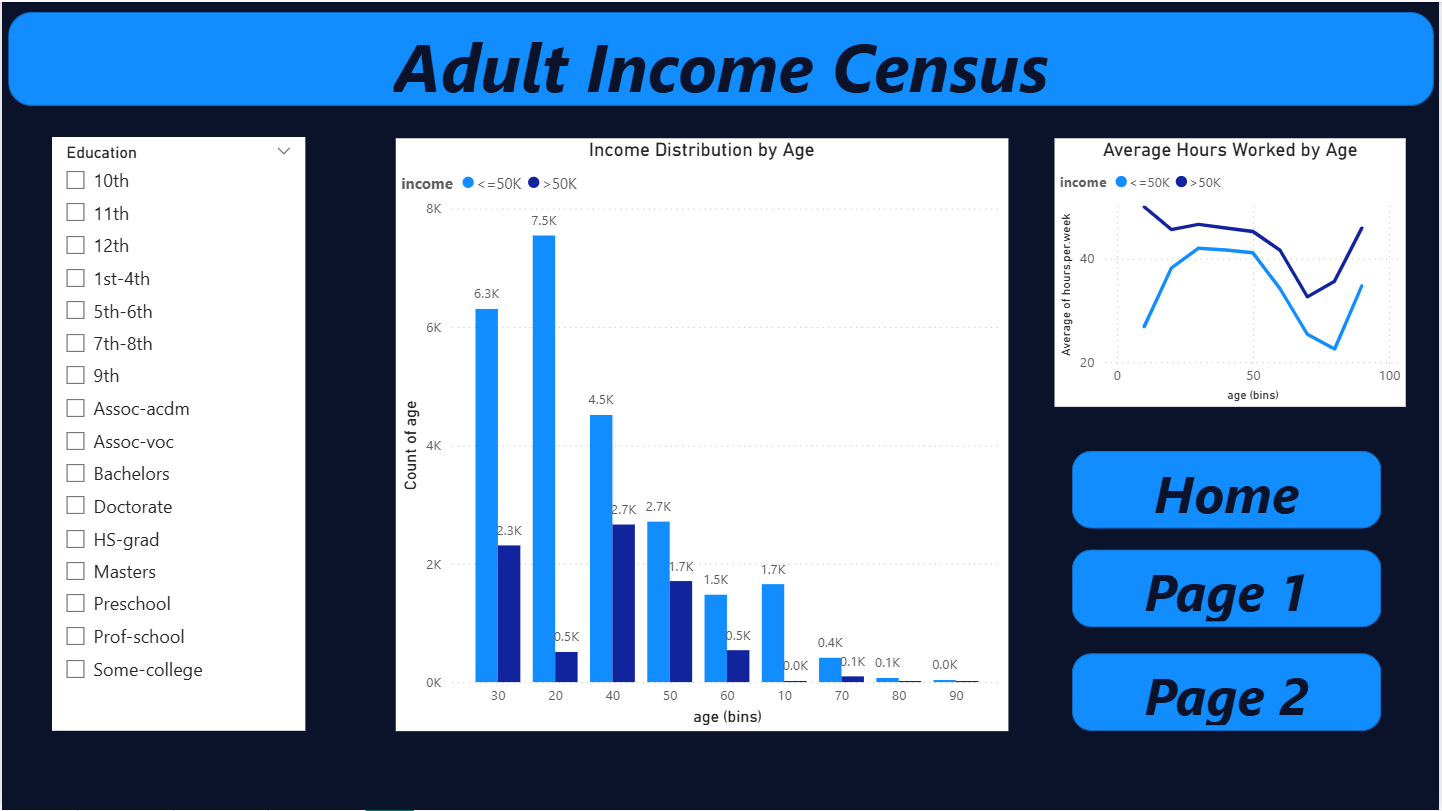

The dashboard page shown, as its layout file describes it:
{"tool":"powerbi","page":{"name":"Page 3","canvas":[1280,720],"ordinal":3},"visuals":[{"type":"clusteredColumnChart","title":"Income Distribution by Age","fields":{"Category":["Dataset for Excel.age (bins)"],"Series":["Dataset for Excel.income"],"Y":["CountNonNull(Dataset for Excel.age)"]},"box":[350.6,121.2,545.4,528.1],"z":0},{"type":"shape","box":[953.2,399.6,275.6,69.3],"z":1000},{"type":"shape","box":[953.2,580,275.6,69.3],"z":2000},{"type":"shape","box":[953.2,487.7,275.6,69.3],"z":3000},{"type":"shape","box":[5.8,8.7,1269.6,83.7],"z":4000},{"type":"slicer","fields":{"Values":["Dataset for Excel.education"]},"box":[44.6,120.6,225.6,528.4],"z":5000},{"type":"lineChart","title":"Average Hours Worked by Age","fields":{"Category":["Dataset for Excel.age (bins)"],"Series":["Dataset for Excel.income"],"Y":["Avg(Dataset for Excel.hours.per.week)"]},"box":[937.8,121.2,313.1,239.5],"z":6000}]}

Visuals, with their boxes in screenshot pixels (x1, y1, x2, y2), scaled from the page's 1280x720 canvas onto the 1442x811 screenshot:
"Income Distribution by Age" clusteredColumnChart: (395, 137, 1009, 731)
shape: (1074, 450, 1384, 528)
shape: (1074, 653, 1384, 731)
shape: (1074, 549, 1384, 627)
shape: (7, 10, 1437, 104)
slicer - Dataset for Excel.education: (50, 136, 304, 731)
"Average Hours Worked by Age" lineChart: (1056, 137, 1409, 406)
